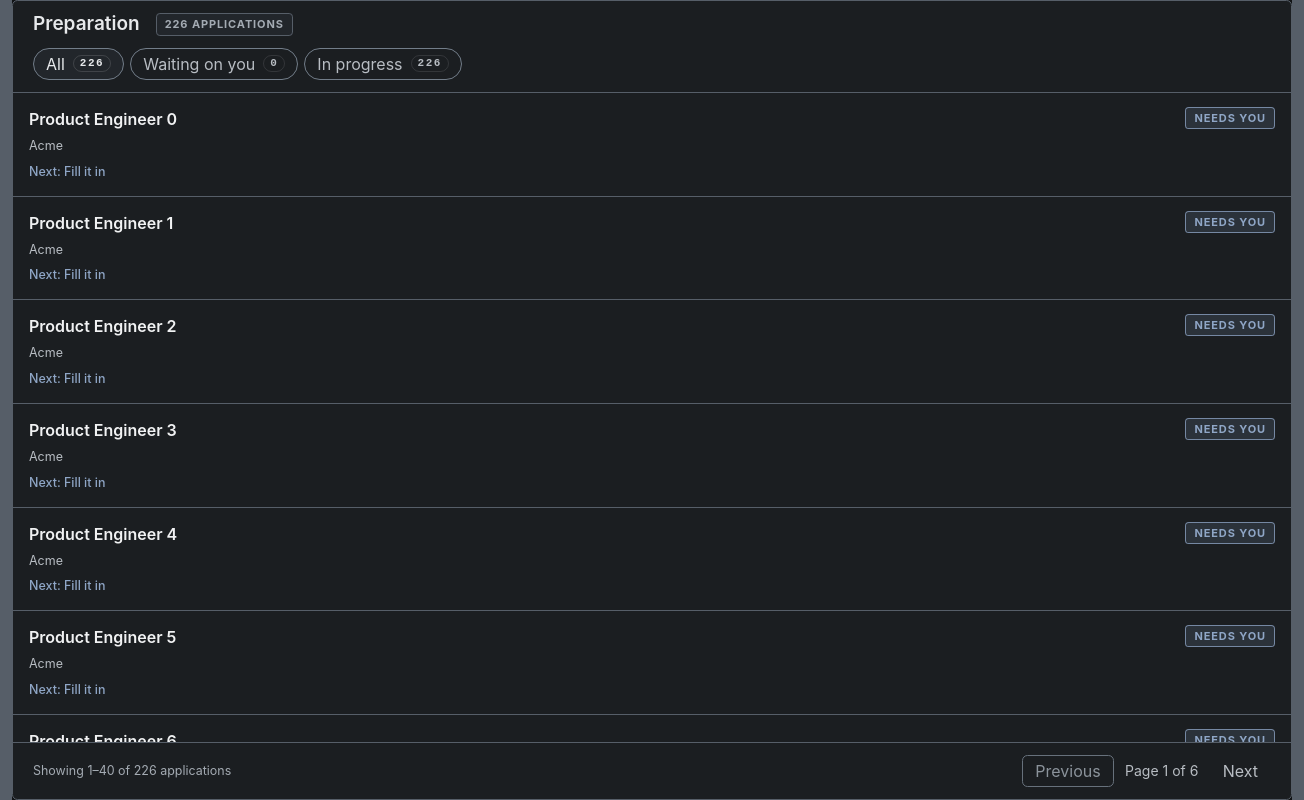
ApplicationsRecordsPanel › keeps a large application list bounded to one page
The width and height of the screenshot is (1304, 800).
Expected: the navigation bar named "applications pagination" is shown, left=13, top=742, right=1291, bottom=799
Click the button with aria-label "Next page" at (1240, 771), box left=1210, top=755, right=1271, bottom=787
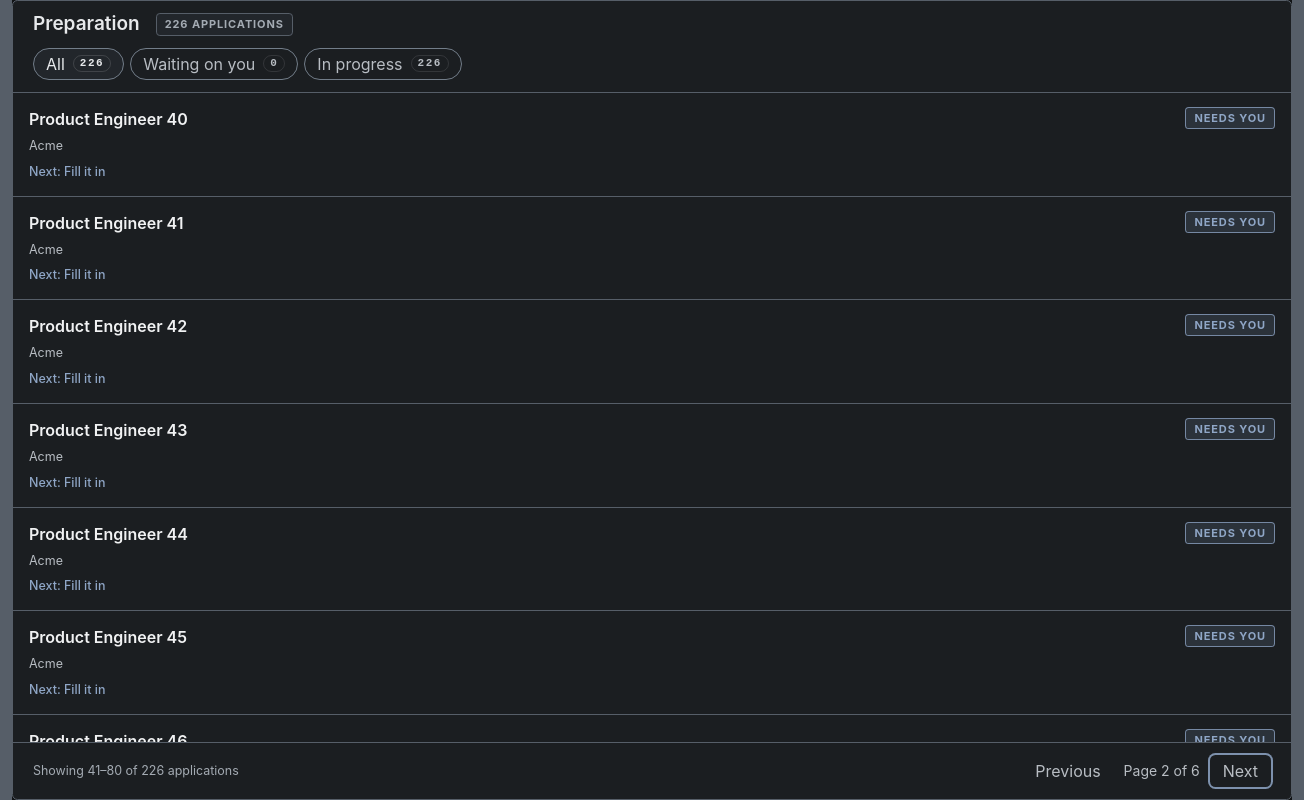
Now the text "Product Engineer 40" is shown, box left=29, top=107, right=188, bottom=131
